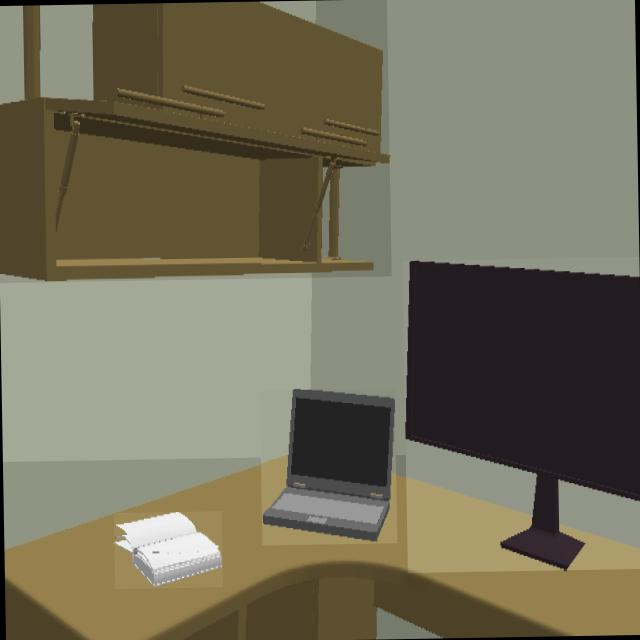book: (114, 512, 222, 587)
cabinet: (0, 1, 389, 281)
laptop: (261, 390, 394, 542)
monitor: (405, 261, 640, 570)
table: (6, 457, 640, 640)
